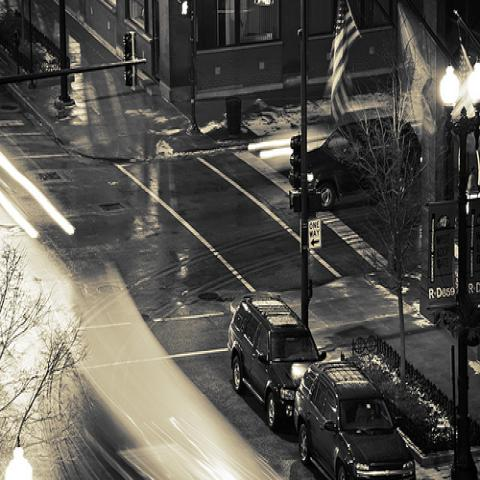car: (296, 359, 415, 475), (228, 294, 325, 434), (308, 117, 422, 212)
